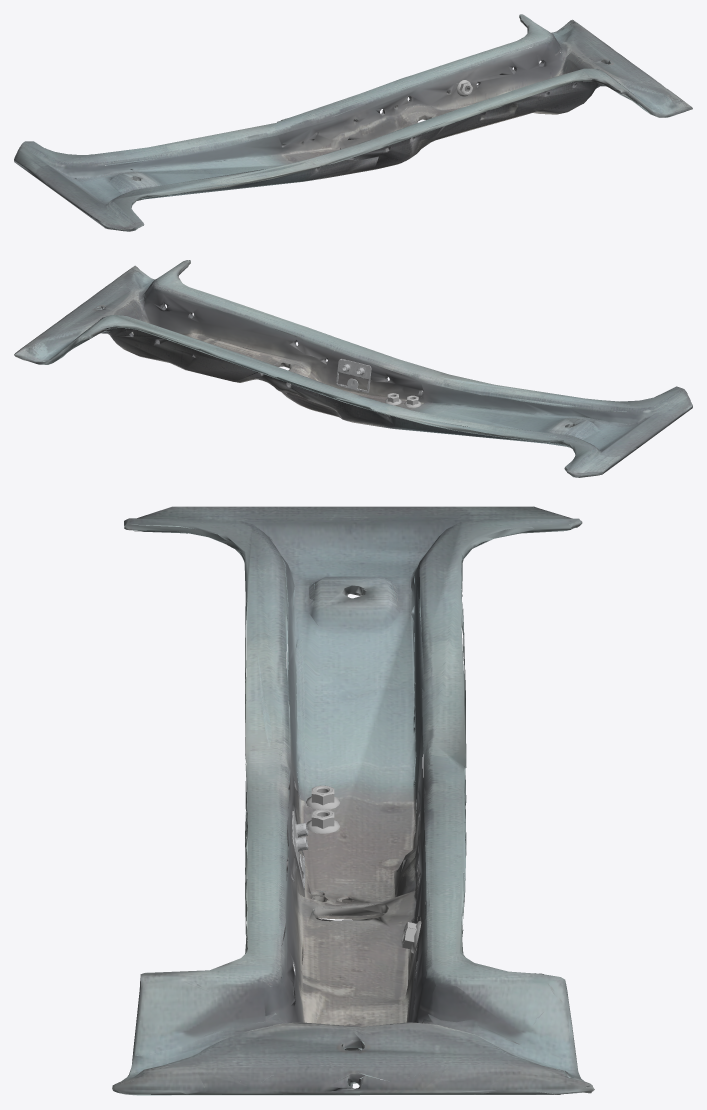
The picture shows the model from 3 angles, top to bottom: view 1: azimuth 30°, elevation 25°; view 2: azimuth 150°, elevation 25°; view 3: azimuth 270°, elevation 25°; orthographic projection. The views are drawn at different scales.
Parts seen in each view (by area): view 1: PecaPrincipal; view 2: PecaPrincipal, Chapa; view 3: PecaPrincipal.
Boxes of the visible parts, bbox=[...] form: PecaPrincipal: bbox=[14, 14, 692, 231]; PecaPrincipal: bbox=[14, 260, 692, 477]; Chapa: bbox=[336, 358, 371, 392]; PecaPrincipal: bbox=[112, 506, 594, 1095].
Size of the model in its own units: 1.9 by 0.1891 by 0.691.
Materials: 5 (2 with a texture image).
